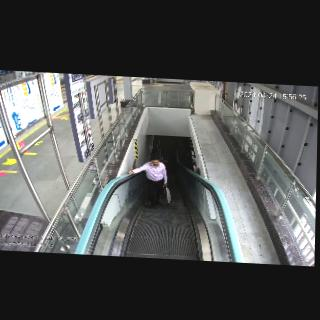normal: (144, 154, 170, 209)
